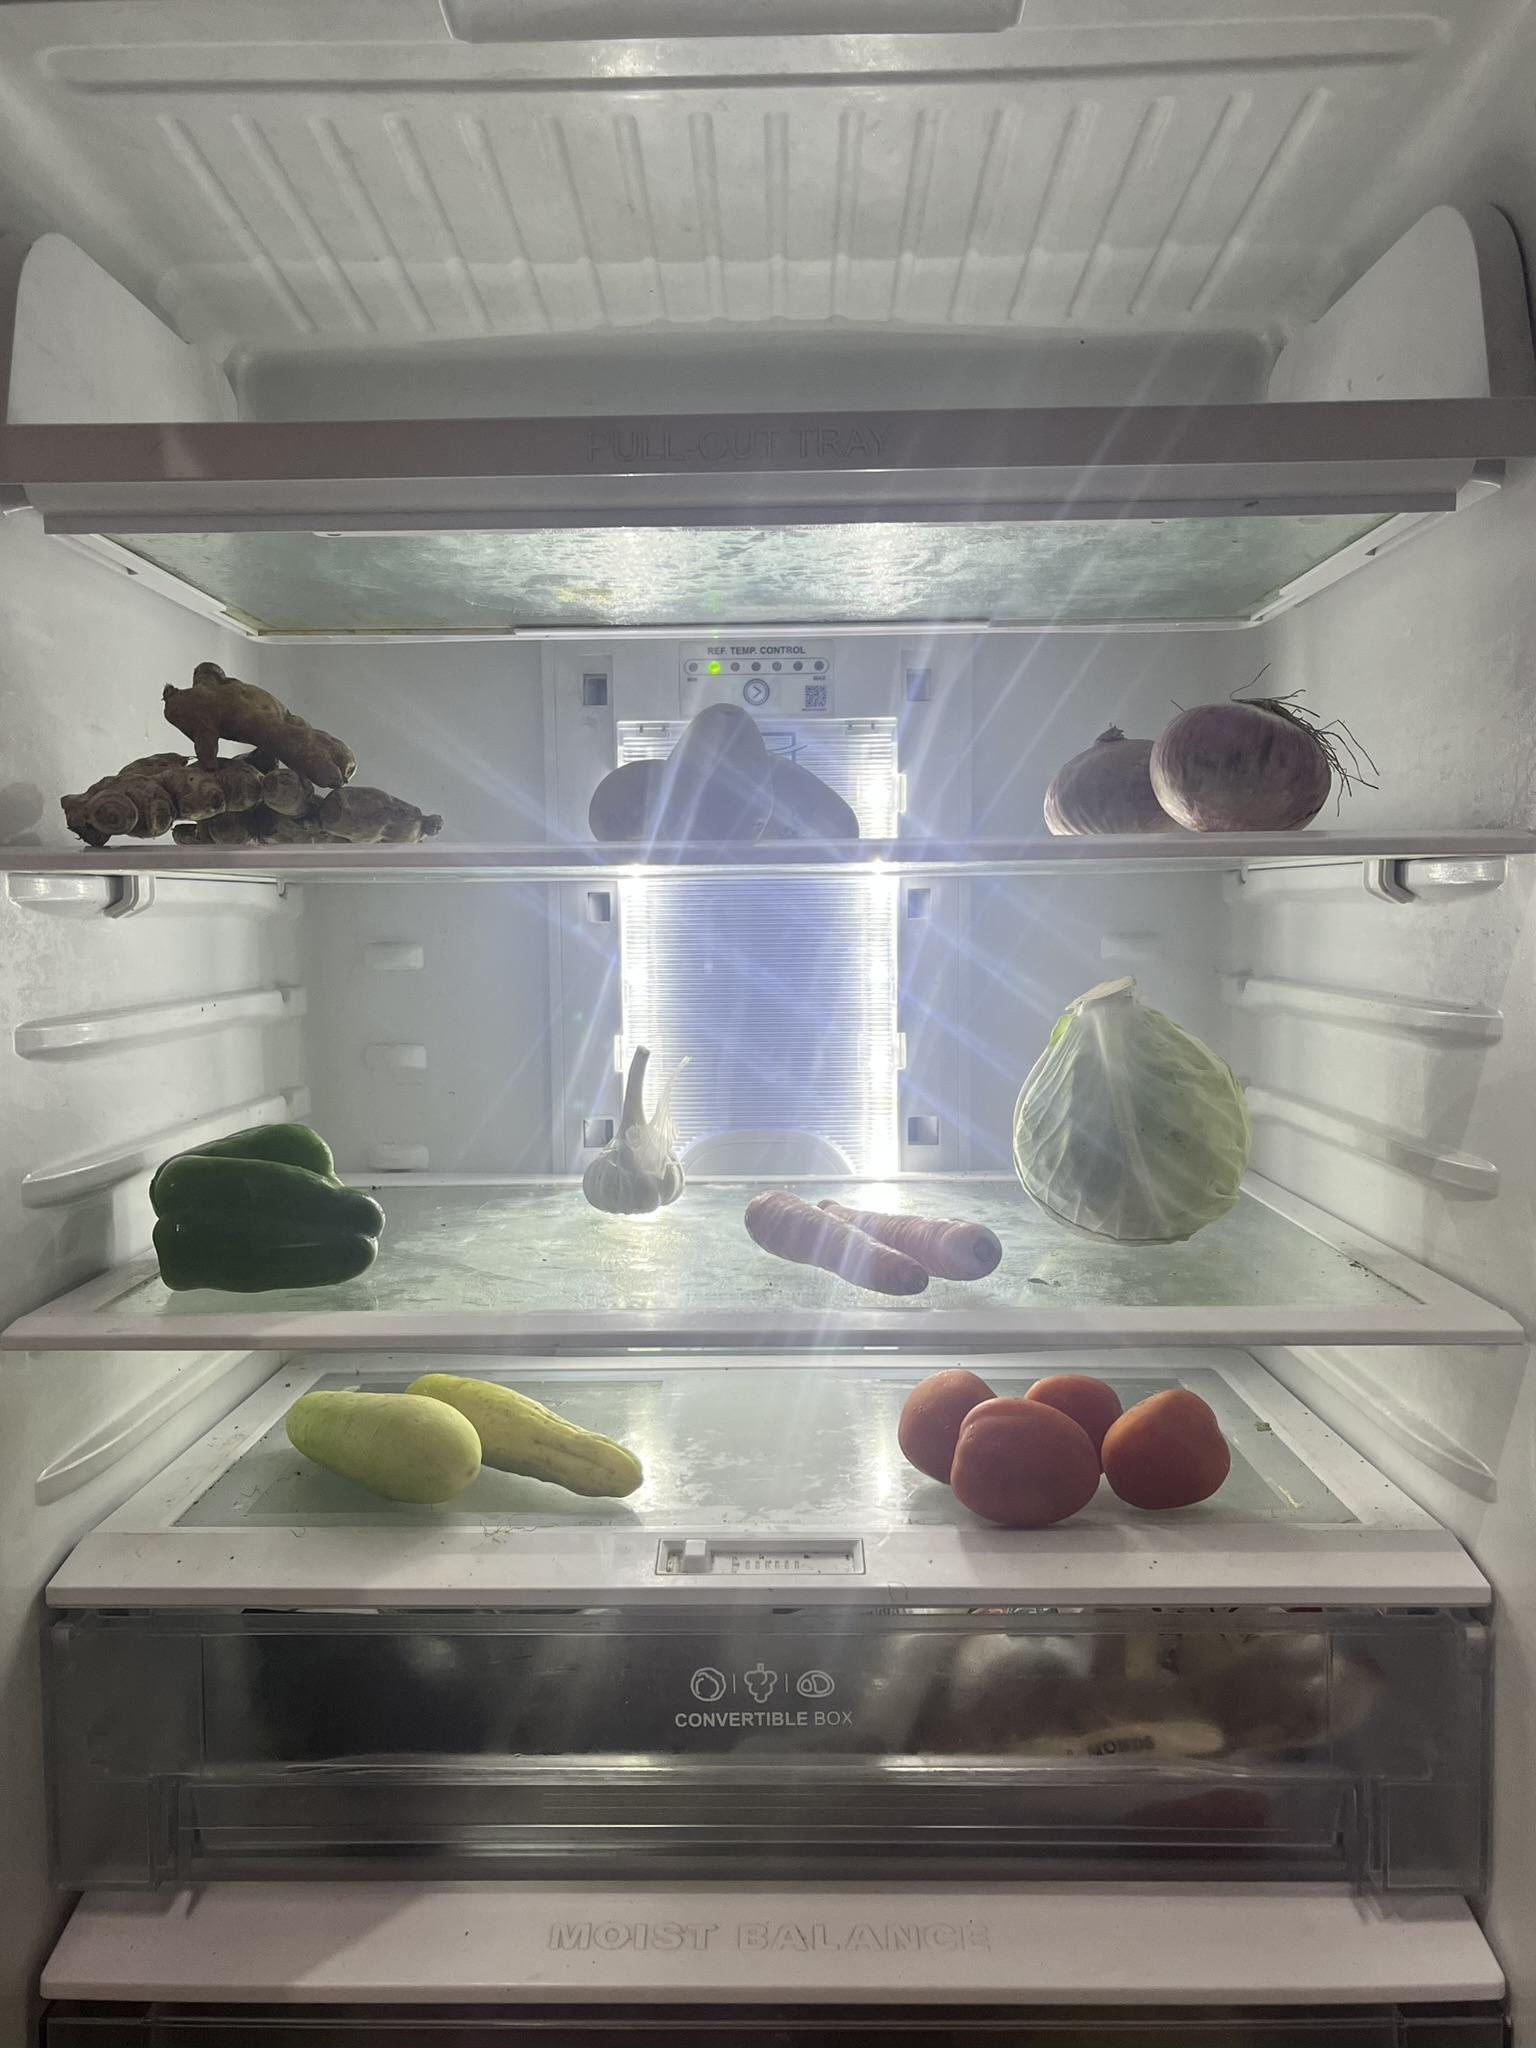cabbage: (1000, 984, 1257, 1250)
capsicum: (153, 1116, 387, 1290)
carrots: (737, 1193, 1020, 1297)
cucumber: (273, 1377, 644, 1506)
garlic: (591, 1037, 691, 1216)
ginger: (56, 656, 447, 863)
onion: (1054, 693, 1347, 830)
potato: (591, 700, 870, 847)
tomato: (900, 1371, 1244, 1509)
